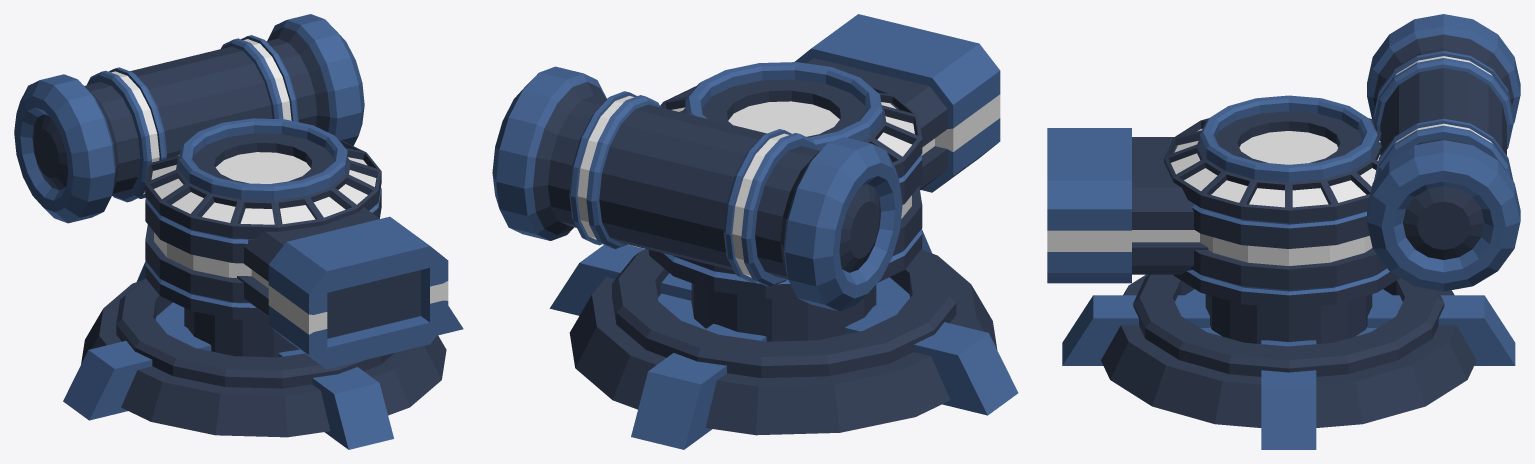
The model's file is UpgCryosis3.fbx.
3 renders of one model, left to right at view 1: azimuth 30°, elevation 25°; view 2: azimuth 150°, elevation 25°; view 3: azimuth 270°, elevation 25°, orthographic. The views are drawn at different scales.
Visible parts, largest first — view 1: Cylinder.022, Cylinder.021; view 2: Cylinder.022, Cylinder.021; view 3: Cylinder.022, Cylinder.021.
Boxes of the visible parts, <box> form: Cylinder.022: <box>14,14,448,369</box>; Cylinder.021: <box>63,261,463,449</box>; Cylinder.022: <box>492,14,1000,311</box>; Cylinder.021: <box>549,229,1018,449</box>; Cylinder.022: <box>1047,14,1520,307</box>; Cylinder.021: <box>1062,274,1515,449</box>.
Bounding box in the file's own units: 93.74 × 61.9 × 97.89.
